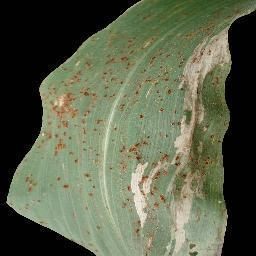Corn_Common_Rust: (7, 0, 256, 256)
